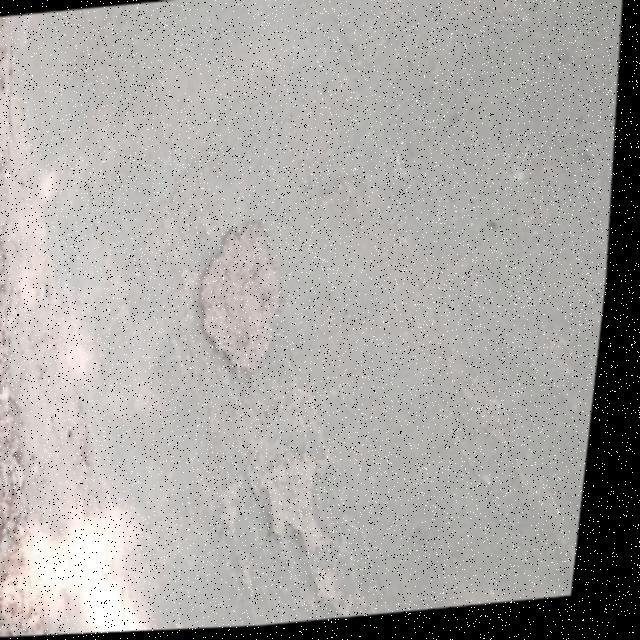pothole: (175, 206, 308, 410), (247, 443, 388, 629)
